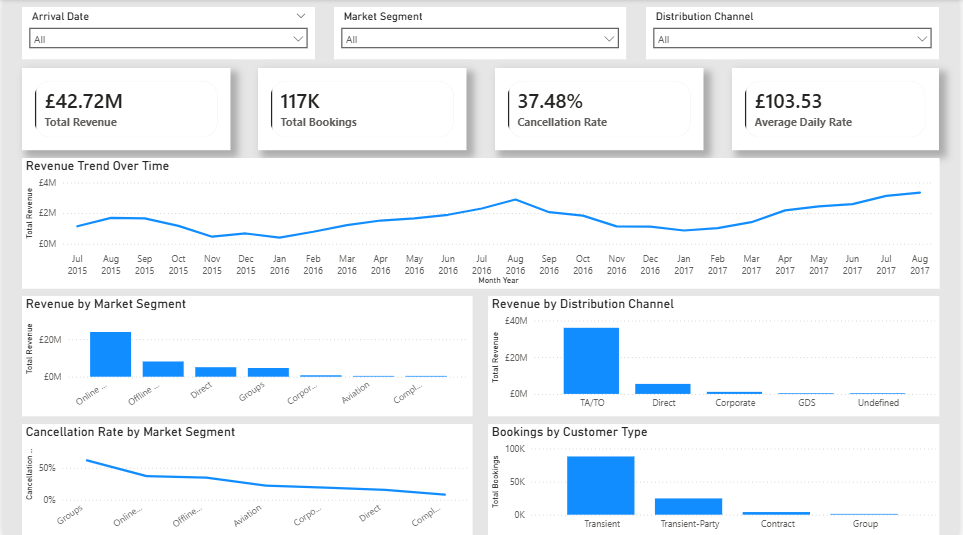

What the dashboard file says about the page in this screenshot:
{"tool":"powerbi","page":{"name":"Page 1","canvas":[1280,720],"ordinal":0},"visuals":[{"type":"cardVisual","fields":{"Data":["hotel_bookings.Total Revenue"]},"box":[24.8,92.2,279.4,110.1],"z":0},{"type":"cardVisual","fields":{"Data":["hotel_bookings.Total Bookings"]},"box":[341.8,92.2,279.4,110.1],"z":1000},{"type":"cardVisual","fields":{"Data":["hotel_bookings.Cancellation Rate"]},"box":[658.8,92.2,279.4,110.1],"z":2000},{"type":"cardVisual","fields":{"Data":["hotel_bookings.Average Daily Rate"]},"box":[975.8,92.2,276.6,110.1],"z":3000},{"type":"lineChart","title":"Revenue Trend Over Time","fields":{"Y":["hotel_bookings.Total Revenue"],"Category":["hotel_bookings.Month Year"]},"box":[24.8,213.3,1227.7,174.8],"z":4000},{"type":"clusteredColumnChart","title":"Revenue by Market Segment","fields":{"Y":["hotel_bookings.Total Revenue"],"Category":["hotel_bookings.market_segment"]},"box":[24.8,397.8,602.8,161],"z":5000},{"type":"clusteredColumnChart","title":"Revenue by Distribution Channel","fields":{"Y":["hotel_bookings.Total Revenue"],"Category":["hotel_bookings.distribution_channel"]},"box":[649.6,397.8,604.2,161],"z":6000},{"type":"lineChart","title":"Cancellation Rate by Market Segment","fields":{"Category":["hotel_bookings.market_segment"],"Y":["hotel_bookings.Cancellation Rate"]},"box":[24.8,568.4,602.8,151.4],"z":7000},{"type":"clusteredColumnChart","title":" Bookings by Customer Type","fields":{"Category":["hotel_bookings.customer_type"],"Y":["hotel_bookings.Total Bookings"]},"box":[649.6,568.4,604.2,151.4],"z":8000},{"type":"slicer","fields":{"Values":["hotel_bookings.Arrival date"]},"box":[24.8,11,392.3,70.2],"z":8001},{"type":"slicer","fields":{"Values":["hotel_bookings.market_segment"]},"box":[443.2,11,390.9,70.2],"z":8002},{"type":"slicer","fields":{"Values":["hotel_bookings.distribution_channel"]},"box":[860.2,11,392.3,70.2],"z":8003}]}

Visuals, with their boxes in screenshot pixels (x1, y1, x2, y2), scaled from the page's 1280x720 canvas onto the 963x535 screenshot:
cardVisual - hotel_bookings.Total Revenue: l=19, t=69, r=229, b=150
cardVisual - hotel_bookings.Total Bookings: l=257, t=69, r=467, b=150
cardVisual - hotel_bookings.Cancellation Rate: l=496, t=69, r=706, b=150
cardVisual - hotel_bookings.Average Daily Rate: l=734, t=69, r=942, b=150
"Revenue Trend Over Time" lineChart: l=19, t=158, r=942, b=288
"Revenue by Market Segment" clusteredColumnChart: l=19, t=296, r=472, b=415
"Revenue by Distribution Channel" clusteredColumnChart: l=489, t=296, r=943, b=415
"Cancellation Rate by Market Segment" lineChart: l=19, t=422, r=472, b=534
" Bookings by Customer Type" clusteredColumnChart: l=489, t=422, r=943, b=534
slicer - hotel_bookings.Arrival date: l=19, t=8, r=314, b=60
slicer - hotel_bookings.market_segment: l=333, t=8, r=628, b=60
slicer - hotel_bookings.distribution_channel: l=647, t=8, r=942, b=60
